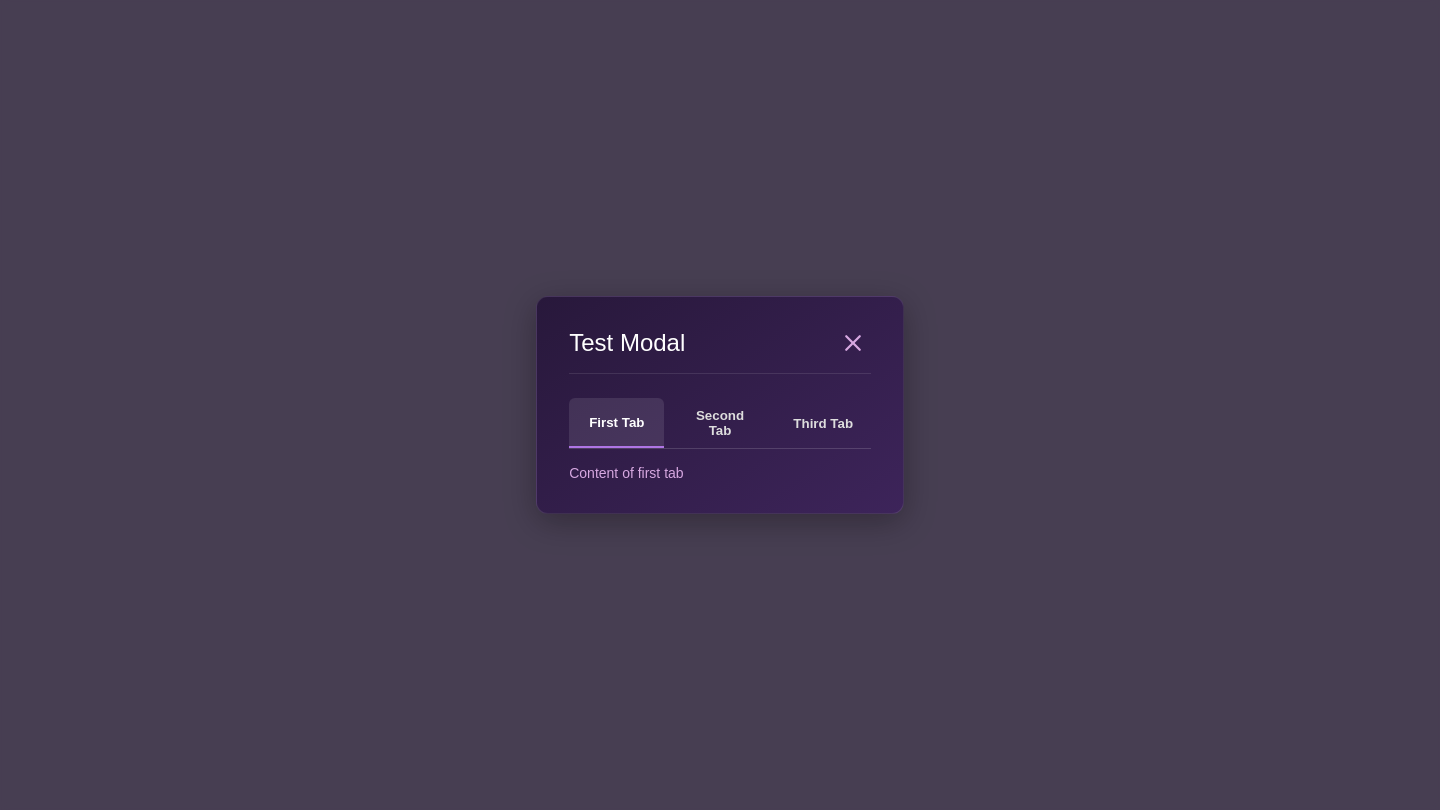
BaseTabbedModal › Tab Navigation › switches tab content when clicking different tab button
The image size is (1440, 810).
Click the button "Second Tab" at [720, 423], box top-left (672, 398), bottom-right (768, 448)
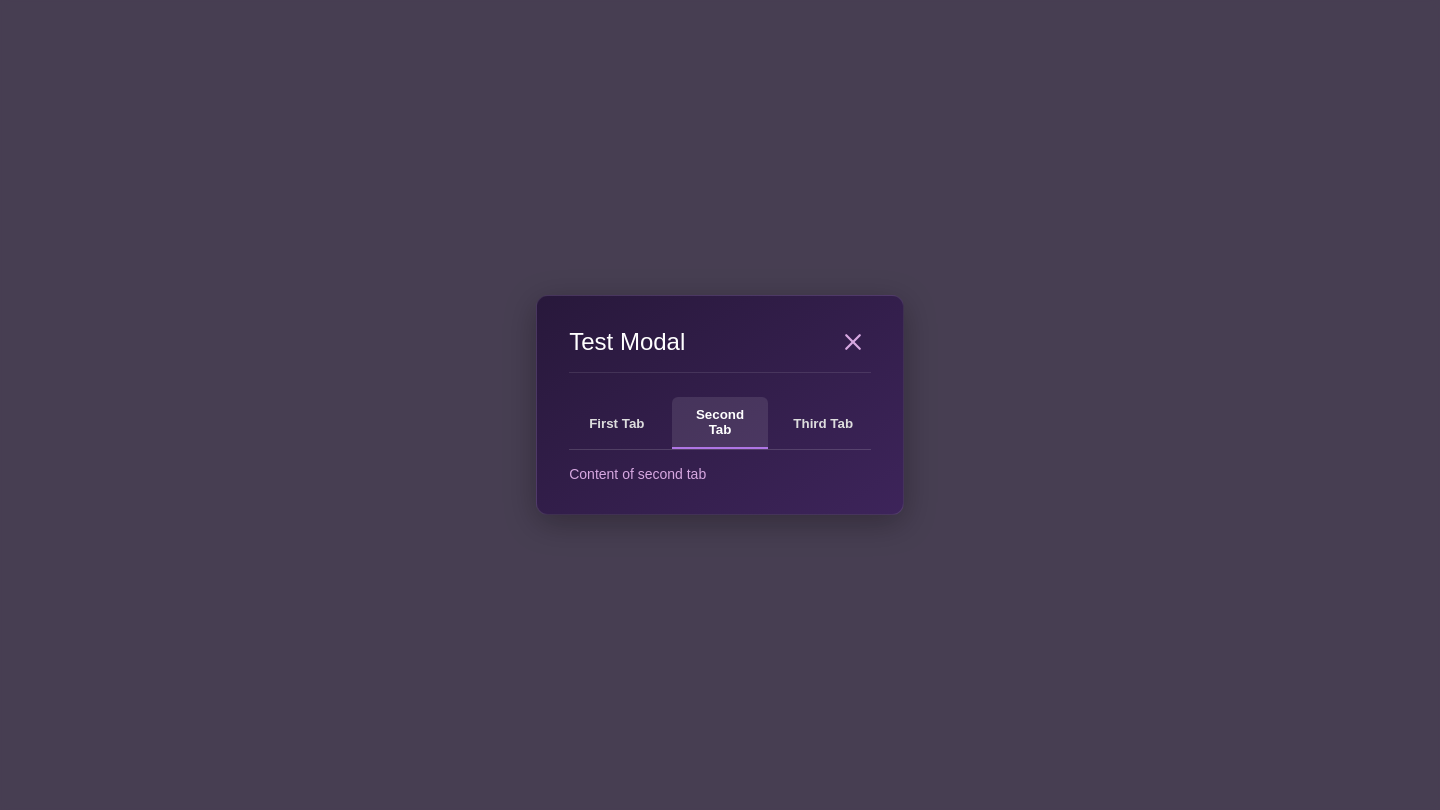
Expected: the text "Content of first tab" is gone
Expected: the text "Content of second tab" is shown, top-left (569, 466), bottom-right (706, 482)
